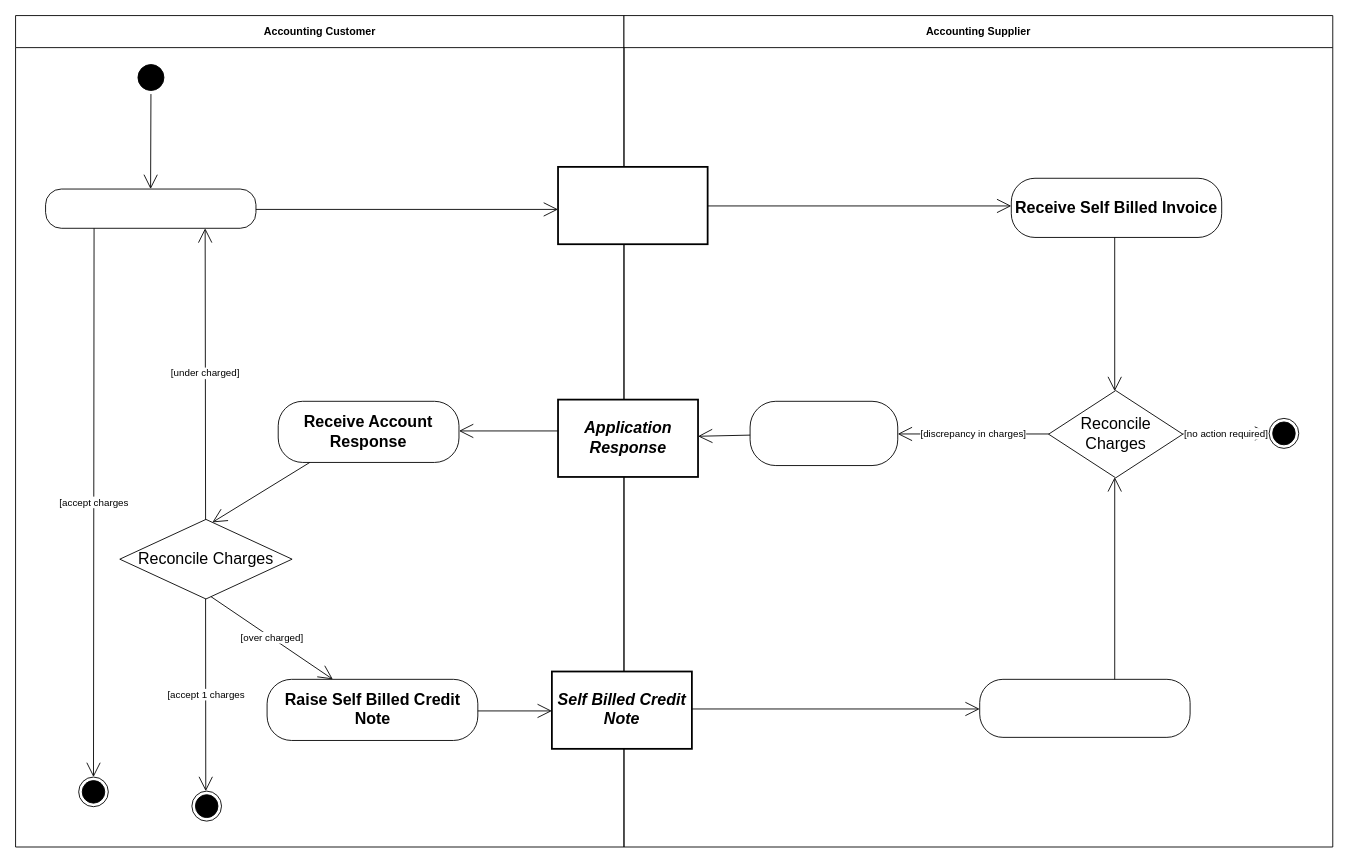
Image size: 1348x863. Some labels were removed from this diagram. The centre of each missing label's shape, as x and y in pixels:
"Raise Self Billed Invoice" goes at (150,208).
"Receive Self Billed Credit Note" goes at (1084,707).
"Self Billed Invoice" goes at (632,205).
"Send Account Response" goes at (823,433).
